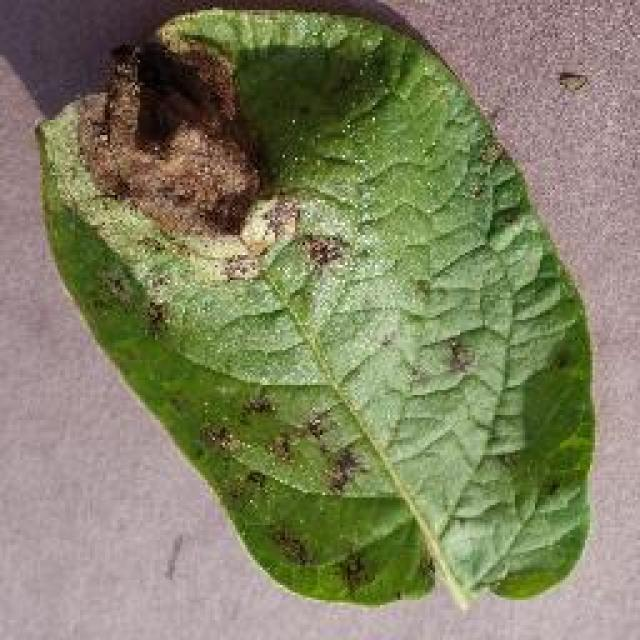late_blight: (32, 0, 600, 610)
